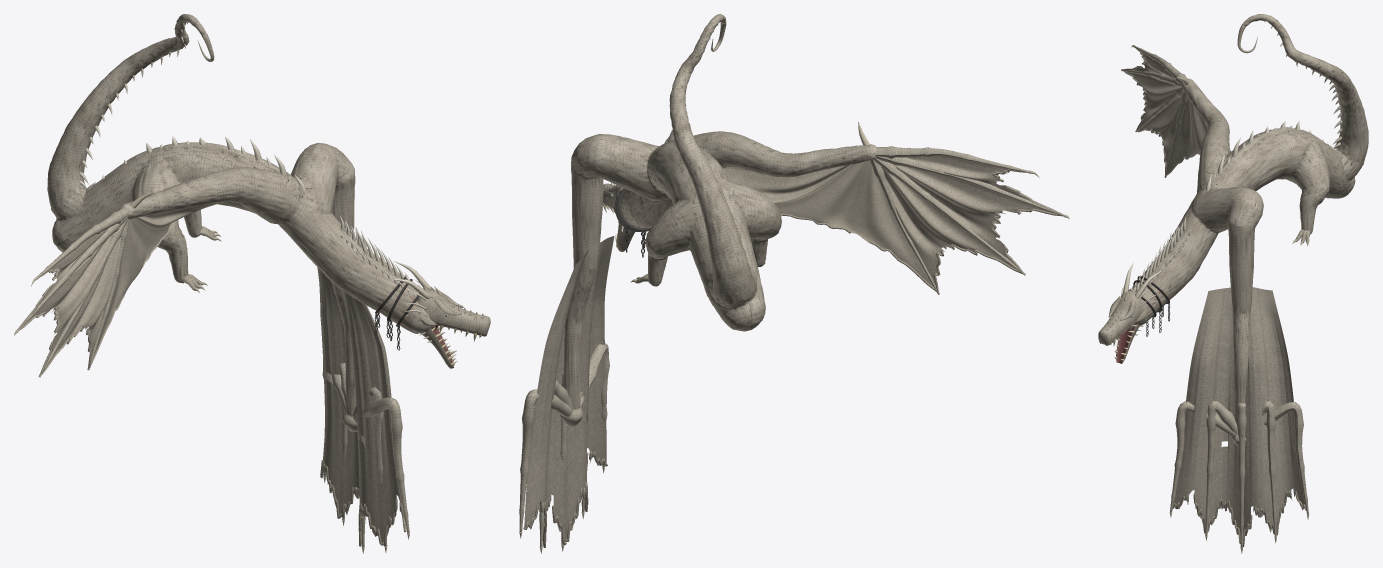
Rendered from gringotts-dragon.glb.
The picture shows the model from 3 angles, left to right: view 1: azimuth 30°, elevation 25°; view 2: azimuth 150°, elevation 25°; view 3: azimuth 270°, elevation 25°; orthographic projection. The views are drawn at different scales.
Visible parts, largest first — view 1: gringotts-dragon-skin, gringotts-dragon-membrane, gringotts-dragon-horn; view 2: gringotts-dragon-skin, gringotts-dragon-membrane, gringotts-dragon-horn; view 3: gringotts-dragon-skin, gringotts-dragon-membrane, gringotts-dragon-horn.
Boxes of the visible parts, box(x1,y1,x2,y2) form: gringotts-dragon-skin: box(17, 14, 490, 547); gringotts-dragon-membrane: box(27, 202, 404, 545); gringotts-dragon-horn: box(14, 22, 483, 553); gringotts-dragon-skin: box(519, 14, 1065, 547); gringotts-dragon-membrane: box(524, 156, 1053, 541); gringotts-dragon-horn: box(519, 38, 1069, 553); gringotts-dragon-skin: box(1098, 14, 1368, 548); gringotts-dragon-membrane: box(1126, 52, 1304, 535); gringotts-dragon-horn: box(1102, 21, 1342, 553).
Size of the model in its own units: 15.3 by 17.84 by 9.23.
Materials: 4 (2 with a texture image).
